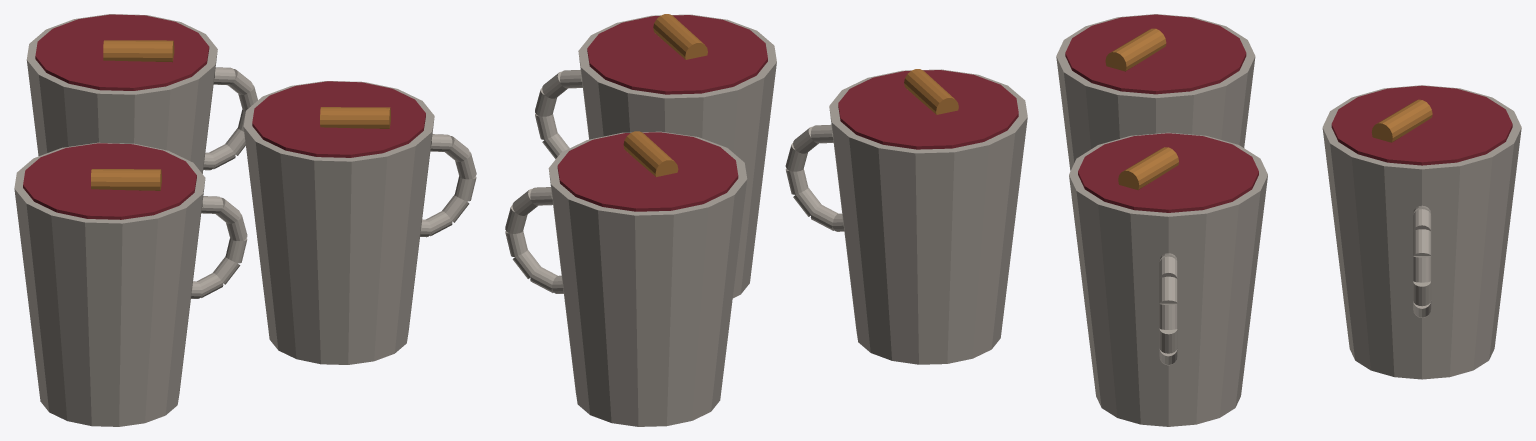
Rendered from scendance-plan-mulled-wine.glb.
3 renders of one model, left to right at view 1: azimuth 30°, elevation 25°; view 2: azimuth 150°, elevation 25°; view 3: azimuth 270°, elevation 25°, orthographic. The views are drawn at different scales.
Size of the model in its own units: 0.2998 by 0.147 by 0.257.
